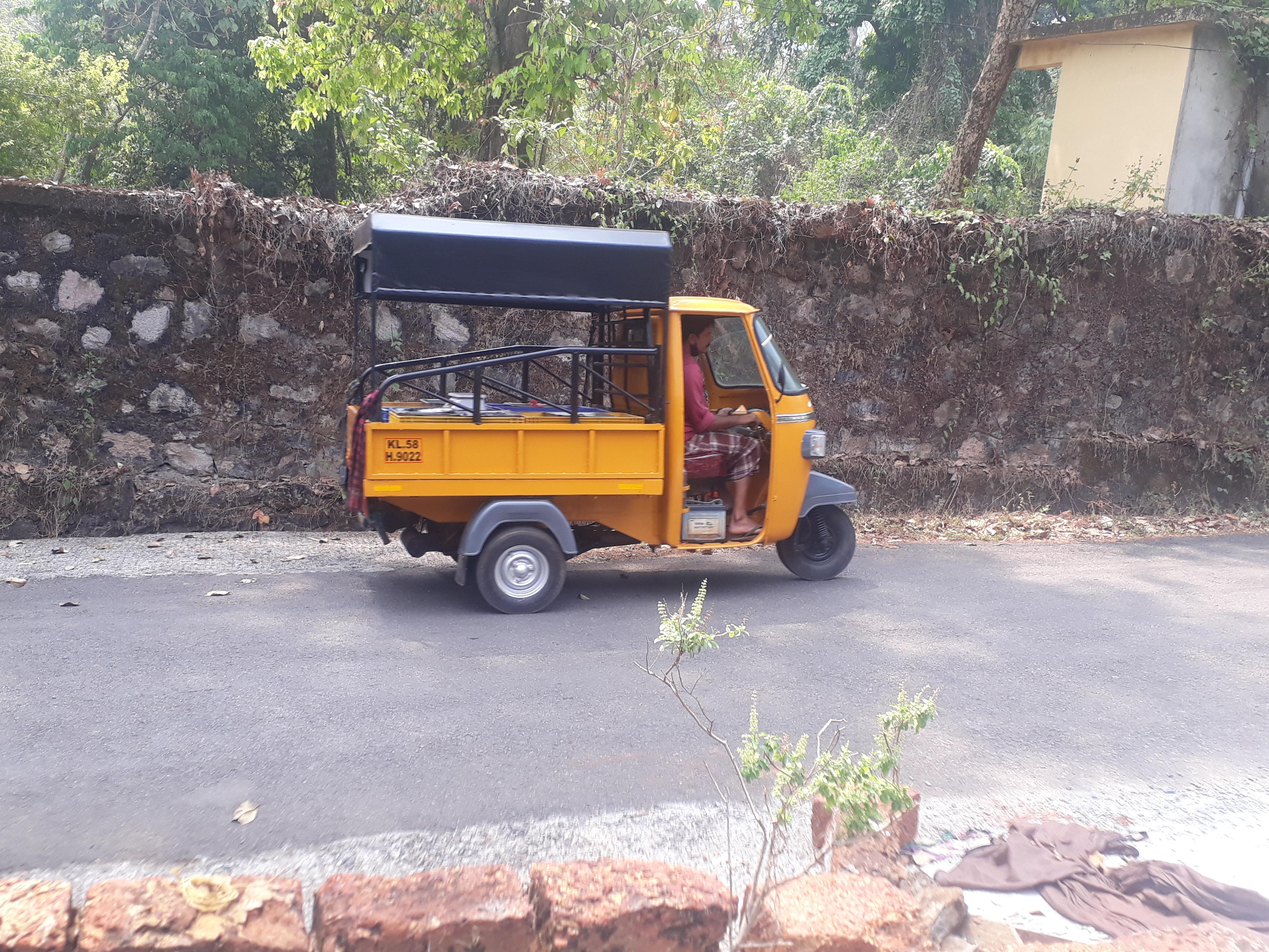Auto: (406, 226, 984, 660)
